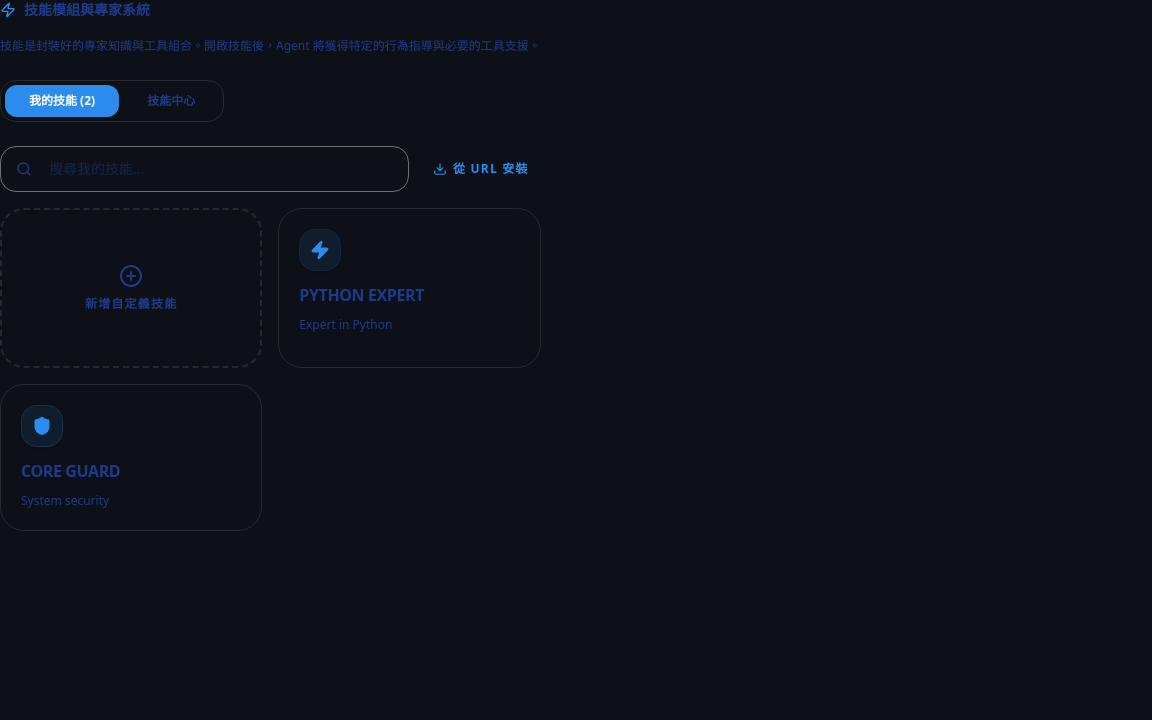
Test: SkillsTab (Baseline) › opens install modal when clicking install from URL
Click the button "從 URL 安裝" at (481, 168), box [421,154,541,182]
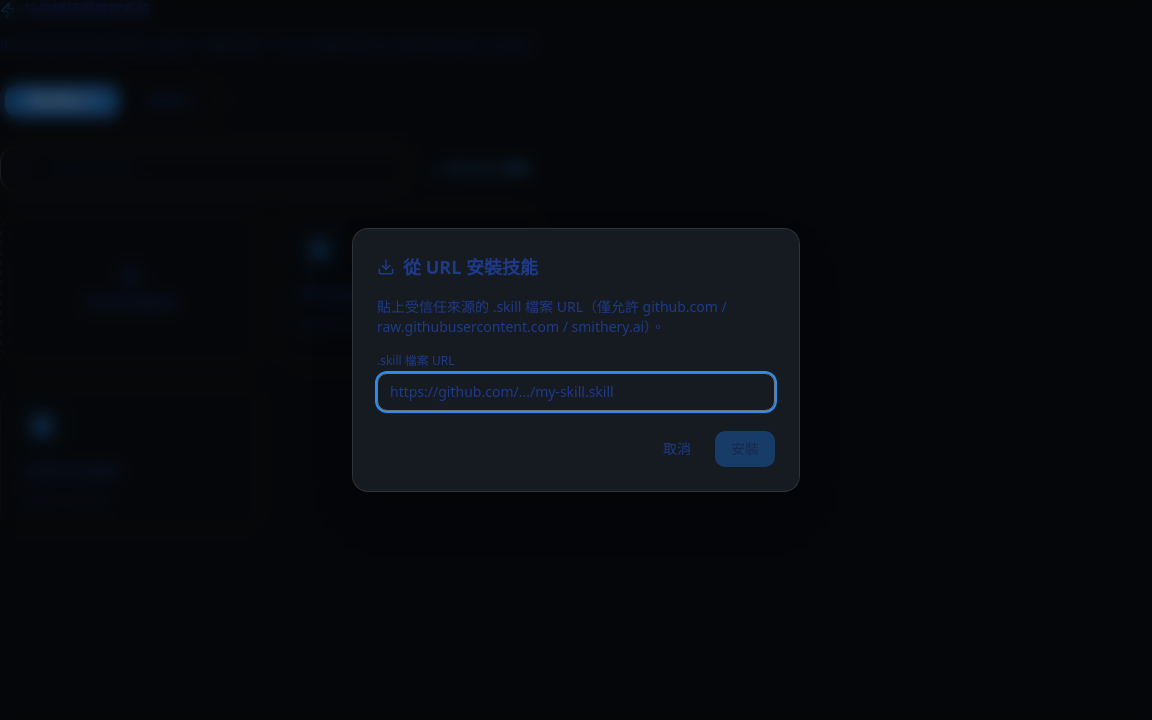
Expected: the field with placeholder "https://github.com/.../my-skill.skill" is shown, [377,373,775,411]
